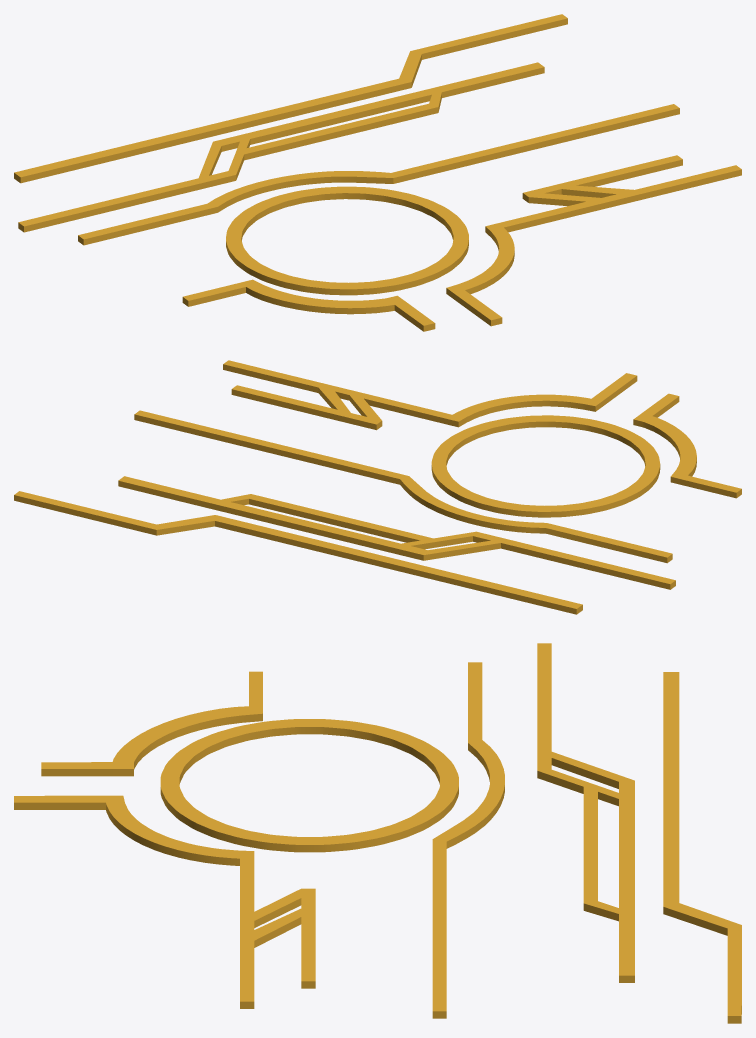
File: DekorBig4.fbx
3 views of the same model, one above another, from view 1: azimuth 30°, elevation 25°; view 2: azimuth 150°, elevation 25°; view 3: azimuth 270°, elevation 25° (orthographic). The views are drawn at different scales.
Parts seen in each view (by area): view 1: Dekor4; view 2: Dekor4; view 3: Dekor4.
Part boxes in pixels (bbox=[...]): Dekor4: bbox=[14, 14, 741, 331]; Dekor4: bbox=[14, 360, 741, 614]; Dekor4: bbox=[14, 643, 741, 1023].
Bounding box in the file's own units: 358 × 3.36 × 295.
